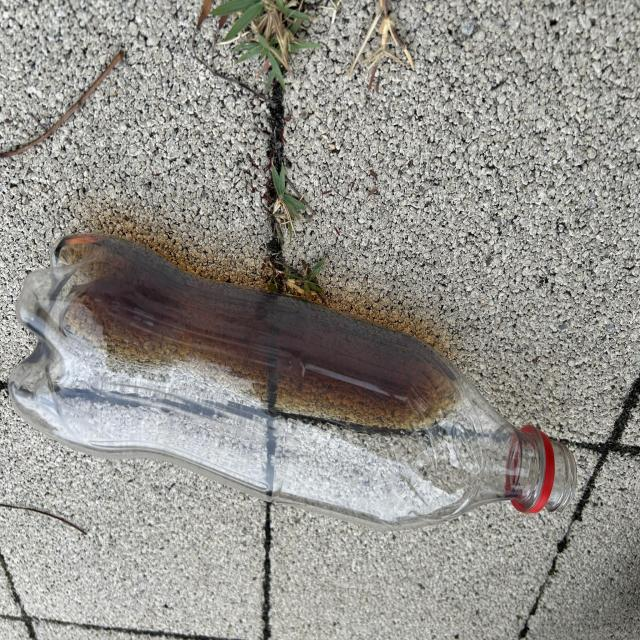low: (8, 234, 576, 529)
